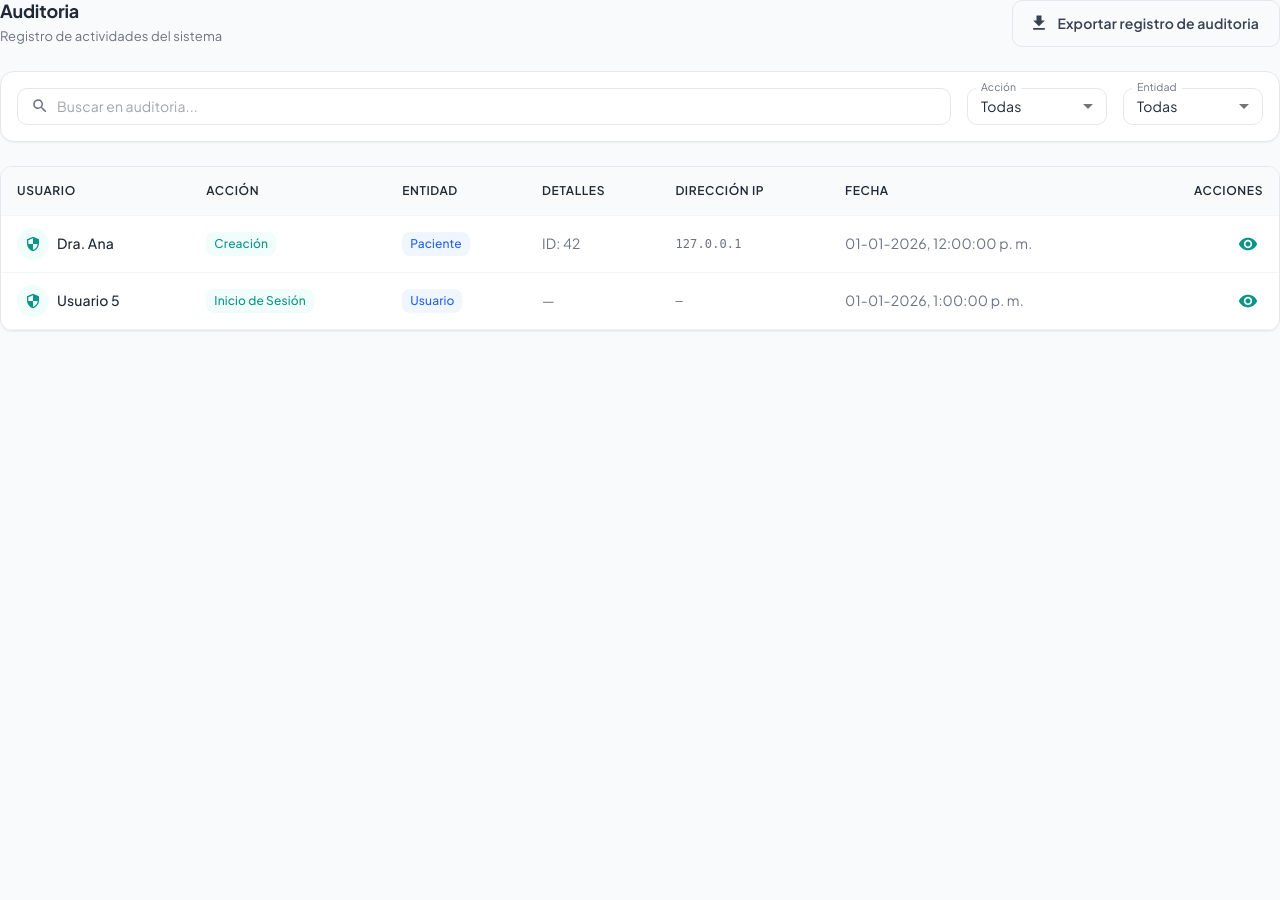
Test: AuditPage › opens the detail dialog when the visibility icon is clicked
Click the button without text in the row of "Dra. Ana": (1248, 244) [1233,229,1263,259]
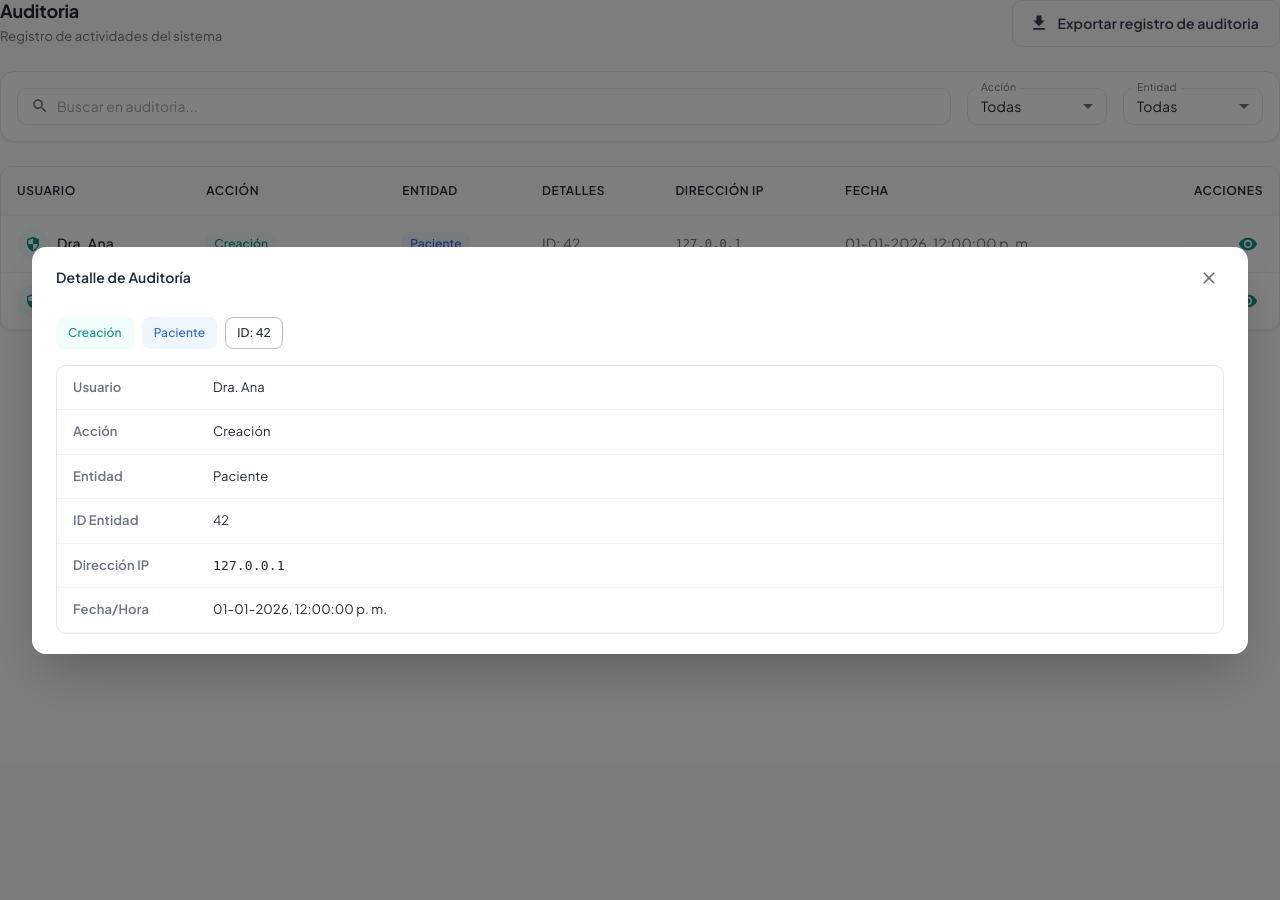
Expected: the heading "Detalle de Auditoría" is shown, [56,262,1224,292]
